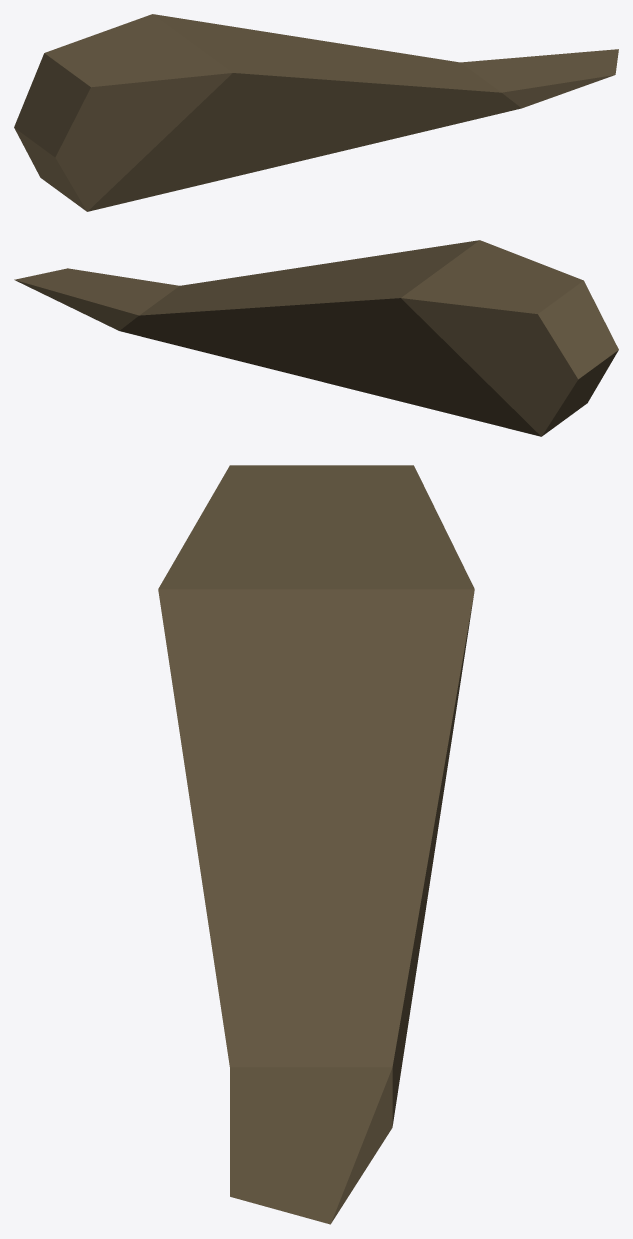
File: catfishDead_low.glb
3 views of the same model, one above another, from view 1: azimuth 30°, elevation 25°; view 2: azimuth 150°, elevation 25°; view 3: azimuth 270°, elevation 25° (orthographic). The views are drawn at different scales.
Visible parts, largest first — view 1: Cube; view 2: Cube; view 3: Cube.
Boxes of the visible parts, bbox=[...] form: Cube: bbox=[14, 14, 618, 211]; Cube: bbox=[14, 240, 618, 436]; Cube: bbox=[158, 465, 474, 1224].
Size of the model in its own units: 1.98 by 0.4046 by 0.4672.
